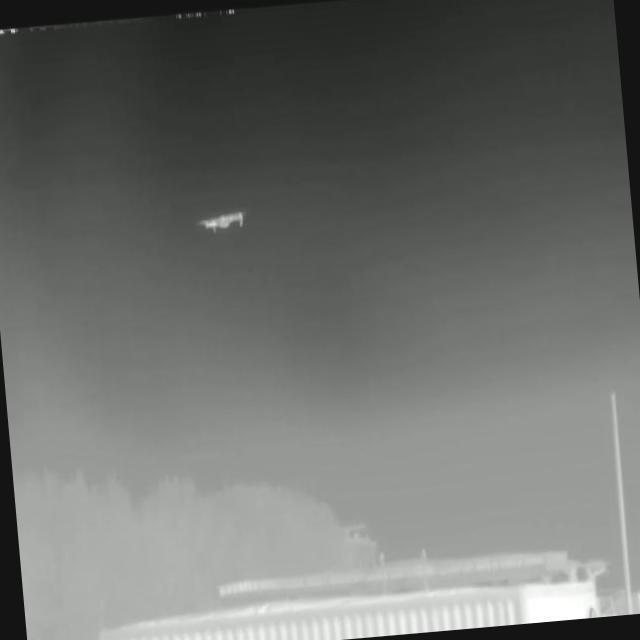DRONE: (184, 197, 257, 242)
